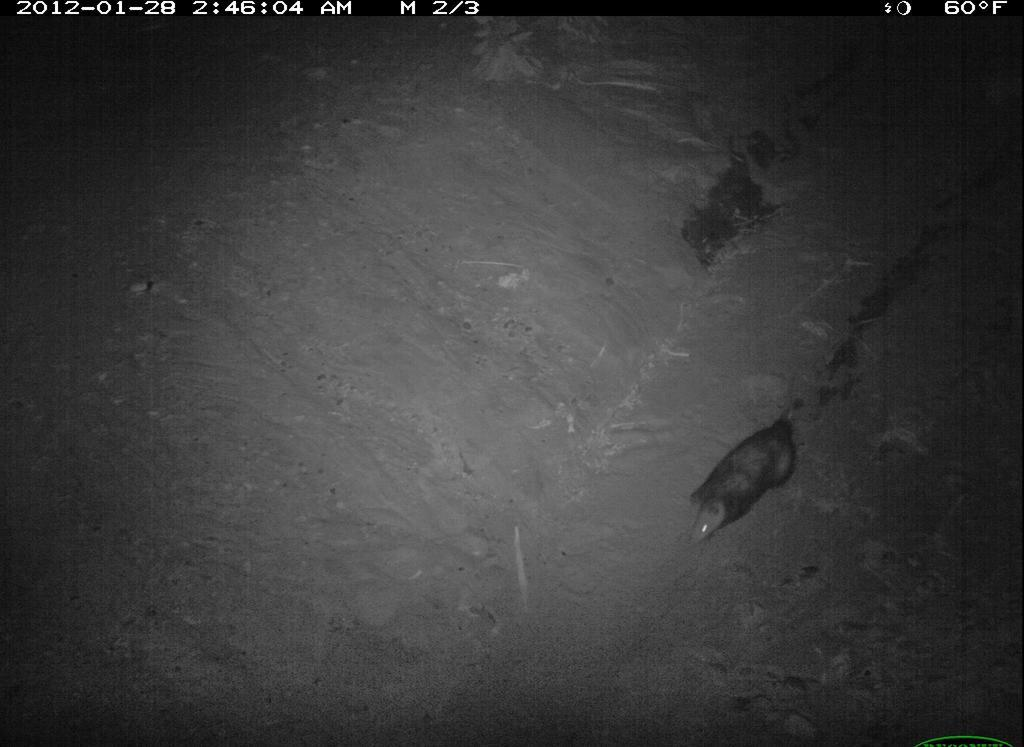opossum: (683, 395, 816, 551)
